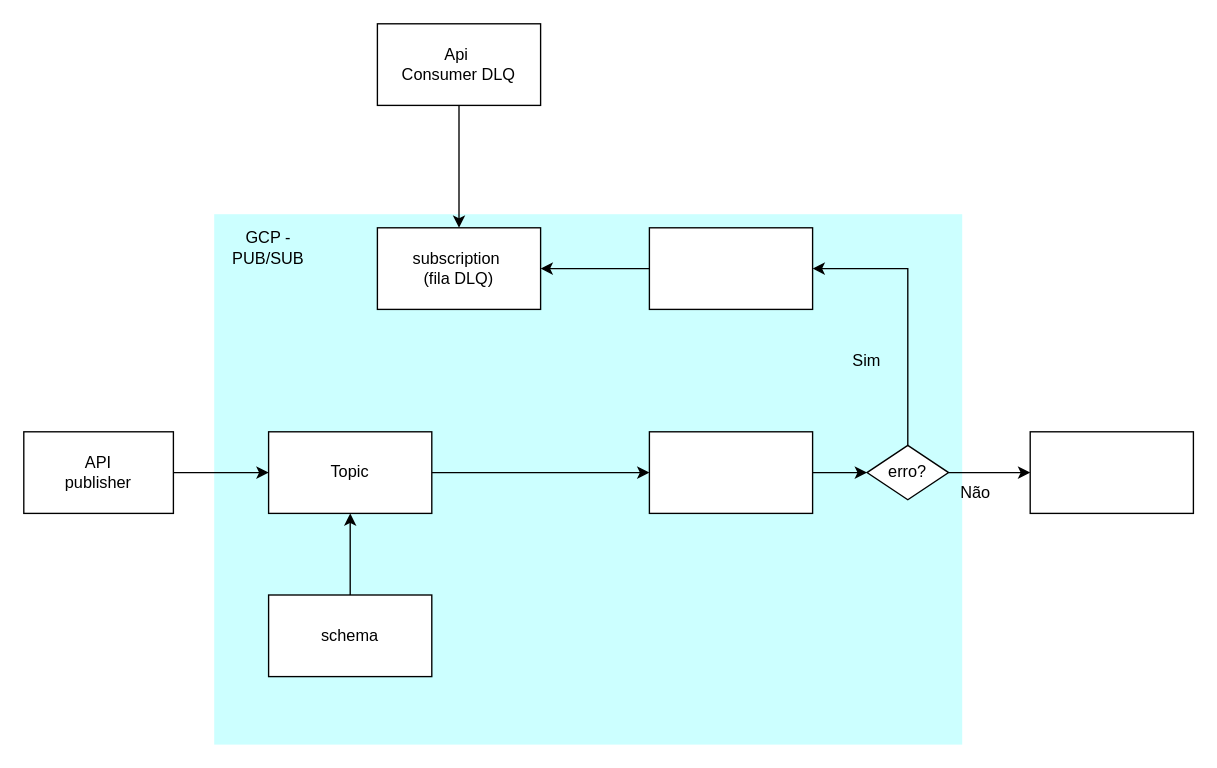
Image size: 1217x768. Some labels were removed from this diagram. Each missing label, with the centre of its shape:
"API consumer" belongs at point 1111,471.
"subscription (fila)" belongs at point 730,471.
"Topic DLQ" belongs at point 730,267.
